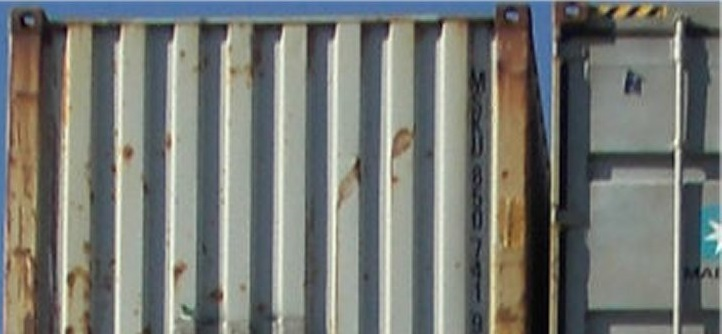container_no_door: (16, 12, 538, 329)
